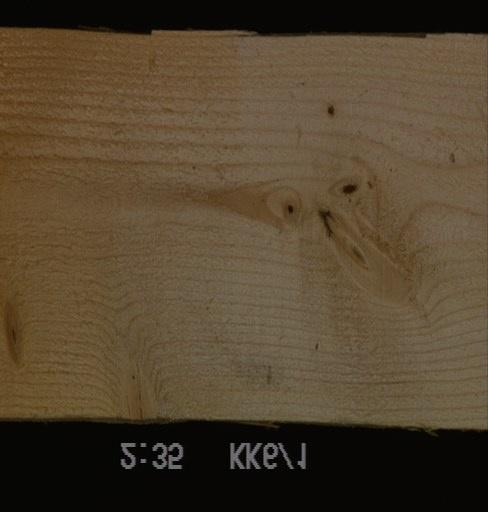small_knot: (277, 196, 303, 223), (320, 104, 341, 120)
